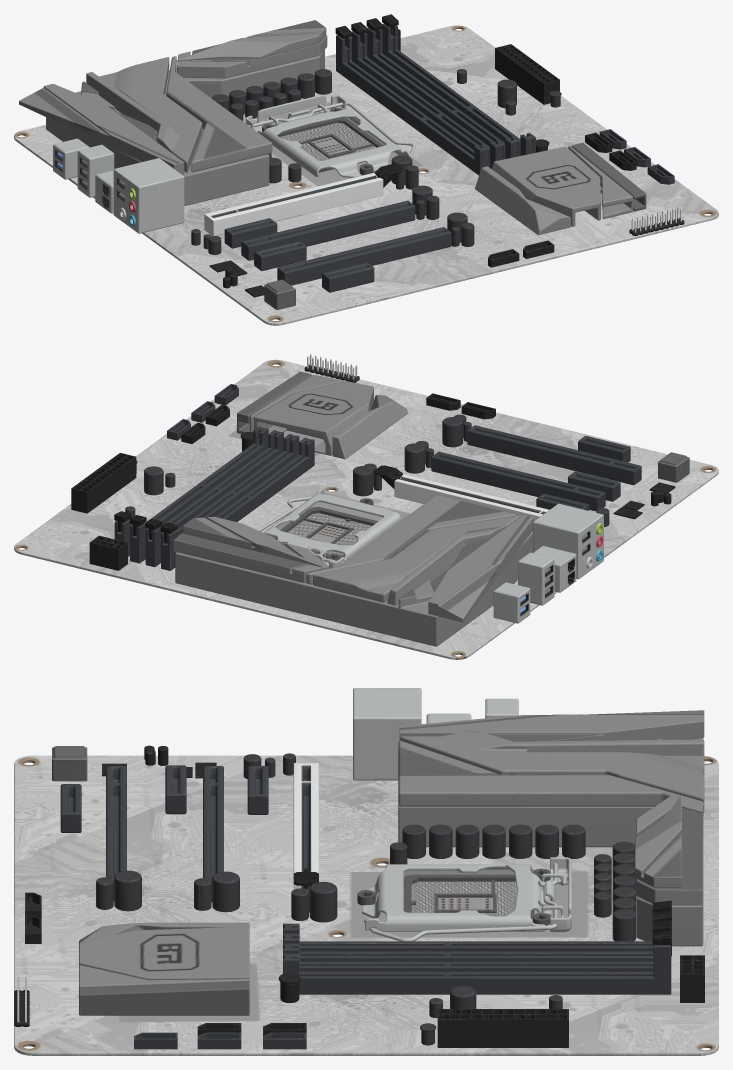
The model's file is Motherboard.fbx.
The picture shows the model from 3 angles, top to bottom: view 1: azimuth 30°, elevation 25°; view 2: azimuth 150°, elevation 25°; view 3: azimuth 270°, elevation 25°; orthographic projection. The views are drawn at different scales.
Visible parts, largest first — view 1: node_33cccb11_2050_498f_ba1a_75ca8422a588_mesh0, node_ad922f39_5ce2_473f_908a_40254980cd55_mesh0, node_f53429e8_1733_4b4d_8cbb_f25e8ab72761_mesh0, node_6a423630_2f70_4453_b29a_0e568b71645c_mesh0, node_3112ab71_8e81_46d7_a9af_d4721ae19da5_mesh0, node_f9a02f37_3cab_497f_b813_83537cd66109_mesh0, node_eae9308a_13b7_421f_96dc_74296af2790a_mesh0, node_130f6c2b_d393_4c26_aed4_f4c142d6b211_mesh0, node_f5918ff5_2caf_4ebc_b642_bbfa5774a81f_mesh0, node_590ae91d_f39a_4631_8da0_142dc636018a_mesh0, node_87431af0_133d_4f90_9bf5_d9d8a4a10f3e_mesh0, node_56de6b43_d119_4bdb_b820_f594a193ab9b_mesh0 (+13 smaller); view 2: node_33cccb11_2050_498f_ba1a_75ca8422a588_mesh0, node_f9a02f37_3cab_497f_b813_83537cd66109_mesh0, node_f53429e8_1733_4b4d_8cbb_f25e8ab72761_mesh0, node_ad922f39_5ce2_473f_908a_40254980cd55_mesh0, node_3112ab71_8e81_46d7_a9af_d4721ae19da5_mesh0, node_eae9308a_13b7_421f_96dc_74296af2790a_mesh0, node_130f6c2b_d393_4c26_aed4_f4c142d6b211_mesh0, node_f5918ff5_2caf_4ebc_b642_bbfa5774a81f_mesh0, node_590ae91d_f39a_4631_8da0_142dc636018a_mesh0, node_6a423630_2f70_4453_b29a_0e568b71645c_mesh0, node_68d065ba_bb9e_439d_bb04_b90c4c42c34c_mesh0, node_8e15a3bb_10b6_4aef_911b_091409a63a68_mesh0 (+11 smaller); view 3: node_33cccb11_2050_498f_ba1a_75ca8422a588_mesh0, node_ad922f39_5ce2_473f_908a_40254980cd55_mesh0, node_6a423630_2f70_4453_b29a_0e568b71645c_mesh0, node_eae9308a_13b7_421f_96dc_74296af2790a_mesh0, node_590ae91d_f39a_4631_8da0_142dc636018a_mesh0, node_f53429e8_1733_4b4d_8cbb_f25e8ab72761_mesh0, node_f9a02f37_3cab_497f_b813_83537cd66109_mesh0, node_f5918ff5_2caf_4ebc_b642_bbfa5774a81f_mesh0, node_130f6c2b_d393_4c26_aed4_f4c142d6b211_mesh0, node_56de6b43_d119_4bdb_b820_f594a193ab9b_mesh0, node_68d065ba_bb9e_439d_bb04_b90c4c42c34c_mesh0, node_3112ab71_8e81_46d7_a9af_d4721ae19da5_mesh0 (+13 smaller).
Boxes of the visible parts, box(x1,y1,x2,y2) form: node_33cccb11_2050_498f_ba1a_75ca8422a588_mesh0: box(14, 25, 718, 325); node_ad922f39_5ce2_473f_908a_40254980cd55_mesh0: box(336, 24, 535, 175); node_f53429e8_1733_4b4d_8cbb_f25e8ab72761_mesh0: box(211, 176, 451, 292); node_6a423630_2f70_4453_b29a_0e568b71645c_mesh0: box(191, 69, 561, 288); node_3112ab71_8e81_46d7_a9af_d4721ae19da5_mesh0: box(53, 138, 184, 233); node_f9a02f37_3cab_497f_b813_83537cd66109_mesh0: box(46, 50, 324, 205); node_eae9308a_13b7_421f_96dc_74296af2790a_mesh0: box(86, 57, 202, 172); node_130f6c2b_d393_4c26_aed4_f4c142d6b211_mesh0: box(19, 83, 184, 174); node_f5918ff5_2caf_4ebc_b642_bbfa5774a81f_mesh0: box(492, 146, 600, 226); node_590ae91d_f39a_4631_8da0_142dc636018a_mesh0: box(166, 56, 272, 172); node_87431af0_133d_4f90_9bf5_d9d8a4a10f3e_mesh0: box(204, 173, 383, 235); node_56de6b43_d119_4bdb_b820_f594a193ab9b_mesh0: box(258, 109, 410, 177); node_33cccb11_2050_498f_ba1a_75ca8422a588_mesh0: box(14, 359, 718, 659); node_f9a02f37_3cab_497f_b813_83537cd66109_mesh0: box(175, 531, 532, 646); node_f53429e8_1733_4b4d_8cbb_f25e8ab72761_mesh0: box(400, 425, 641, 514); node_ad922f39_5ce2_473f_908a_40254980cd55_mesh0: box(114, 426, 314, 570); node_3112ab71_8e81_46d7_a9af_d4721ae19da5_mesh0: box(493, 503, 603, 623); node_eae9308a_13b7_421f_96dc_74296af2790a_mesh0: box(313, 515, 520, 605); node_130f6c2b_d393_4c26_aed4_f4c142d6b211_mesh0: box(428, 514, 533, 622); node_f5918ff5_2caf_4ebc_b642_bbfa5774a81f_mesh0: box(254, 381, 373, 455); node_590ae91d_f39a_4631_8da0_142dc636018a_mesh0: box(306, 495, 516, 584); node_6a423630_2f70_4453_b29a_0e568b71645c_mesh0: box(125, 414, 671, 526); node_68d065ba_bb9e_439d_bb04_b90c4c42c34c_mesh0: box(71, 453, 136, 570); node_8e15a3bb_10b6_4aef_911b_091409a63a68_mesh0: box(173, 533, 328, 582); node_33cccb11_2050_498f_ba1a_75ca8422a588_mesh0: box(14, 755, 718, 1055); node_ad922f39_5ce2_473f_908a_40254980cd55_mesh0: box(283, 923, 671, 994); node_6a423630_2f70_4453_b29a_0e568b71645c_mesh0: box(96, 745, 636, 1045); node_eae9308a_13b7_421f_96dc_74296af2790a_mesh0: box(399, 731, 704, 812); node_590ae91d_f39a_4631_8da0_142dc636018a_mesh0: box(398, 740, 703, 815); node_f53429e8_1733_4b4d_8cbb_f25e8ab72761_mesh0: box(60, 765, 310, 886); node_f9a02f37_3cab_497f_b813_83537cd66109_mesh0: box(398, 738, 703, 946); node_f5918ff5_2caf_4ebc_b642_bbfa5774a81f_mesh0: box(79, 926, 249, 980); node_130f6c2b_d393_4c26_aed4_f4c142d6b211_mesh0: box(399, 710, 704, 741); node_56de6b43_d119_4bdb_b820_f594a193ab9b_mesh0: box(362, 864, 555, 931); node_68d065ba_bb9e_439d_bb04_b90c4c42c34c_mesh0: box(437, 955, 704, 1047); node_3112ab71_8e81_46d7_a9af_d4721ae19da5_mesh0: box(353, 688, 582, 780).
Bounding box in the file's own units: 38.13 × 5.09 × 37.53.
Materials: 1 (1 with a texture image).
